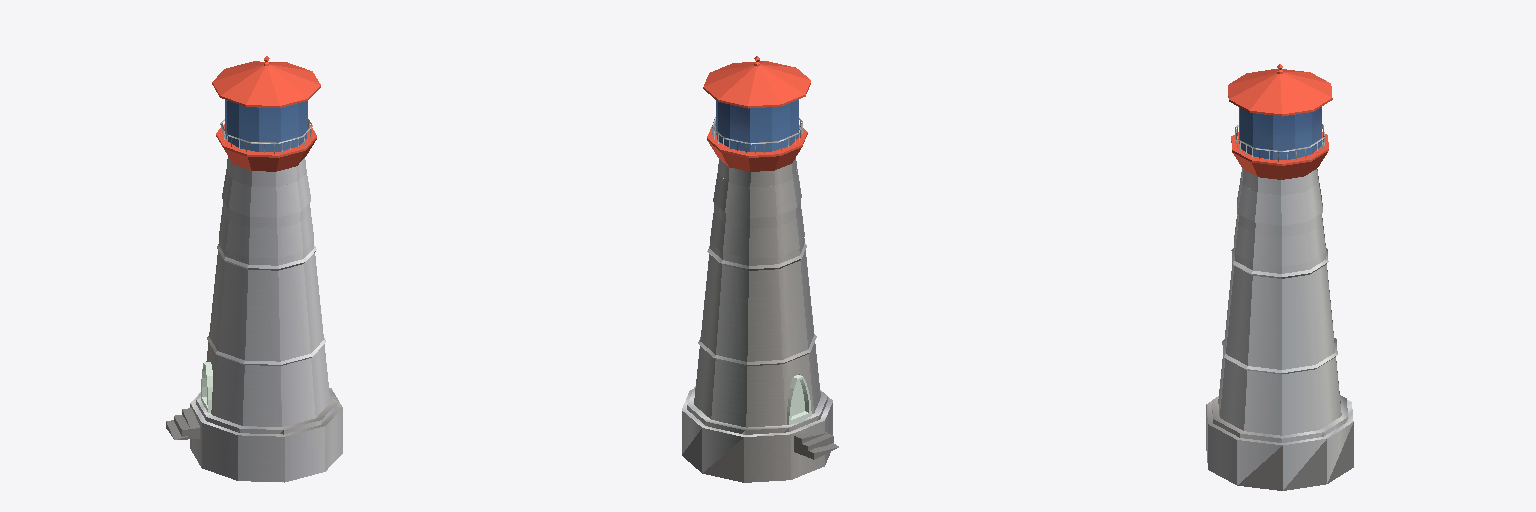
3 views of the same model, side by side, from view 1: azimuth 30°, elevation 25°; view 2: azimuth 150°, elevation 25°; view 3: azimuth 270°, elevation 25° (orthographic).
Visible parts, largest first — view 1: Boole_1_Malla.006, Stairs_1_Malla.007, Sphere_1_Malla.003, Tube_Malla, Cylinder_2_Malla.004; view 2: Boole_1_Malla.006, Stairs_1_Malla.007, Sphere_1_Malla.003, Tube_Malla, Cylinder_2_Malla.004, Door_Malla.005; view 3: Boole_1_Malla.006, Stairs_1_Malla.007, Sphere_1_Malla.003, Tube_Malla, Cylinder_2_Malla.004.
Part boxes in pixels (x1,y1,x2,y2): Boole_1_Malla.006: (206, 157, 330, 426); Stairs_1_Malla.007: (166, 388, 342, 482); Sphere_1_Malla.003: (212, 56, 320, 107); Tube_Malla: (225, 100, 307, 151); Cylinder_2_Malla.004: (216, 123, 316, 171); Boole_1_Malla.006: (694, 158, 820, 427); Stairs_1_Malla.007: (682, 386, 838, 482); Sphere_1_Malla.003: (703, 56, 810, 108); Tube_Malla: (716, 100, 798, 151); Cylinder_2_Malla.004: (707, 125, 807, 171); Door_Malla.005: (787, 375, 811, 424); Boole_1_Malla.006: (1218, 168, 1341, 435); Stairs_1_Malla.007: (1206, 395, 1353, 490); Sphere_1_Malla.003: (1228, 64, 1332, 116); Tube_Malla: (1239, 107, 1321, 159); Cylinder_2_Malla.004: (1231, 132, 1328, 179).
Bounding box in the file's own units: 12.13 × 29.83 × 10.06.
Materials: 4 (2 with a texture image).